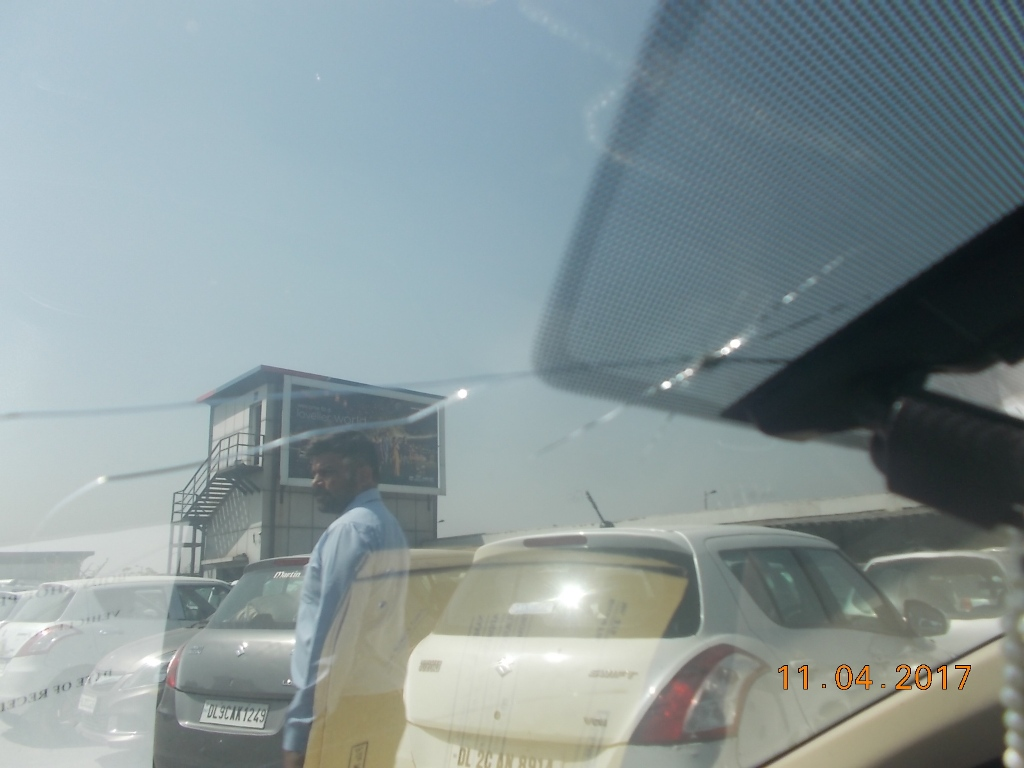Shatter: (683, 334, 771, 389)
